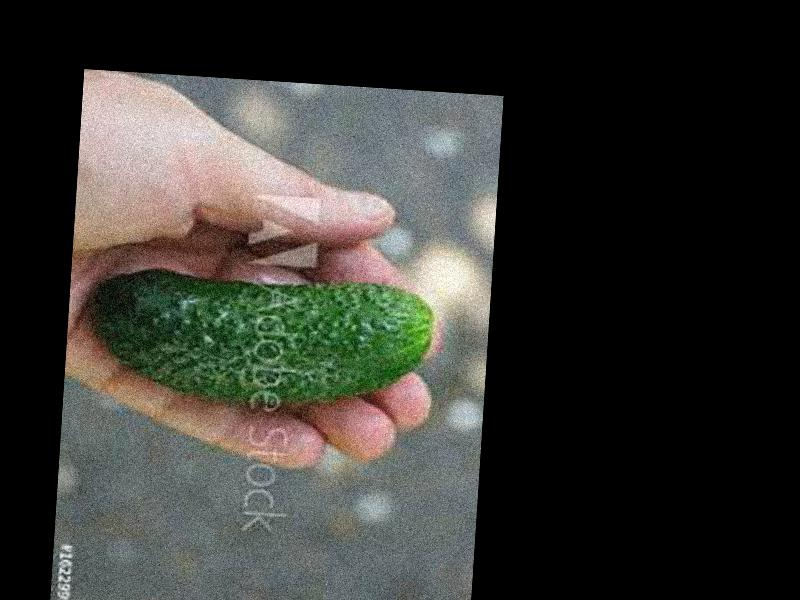Cucumber: (88, 266, 433, 417)
